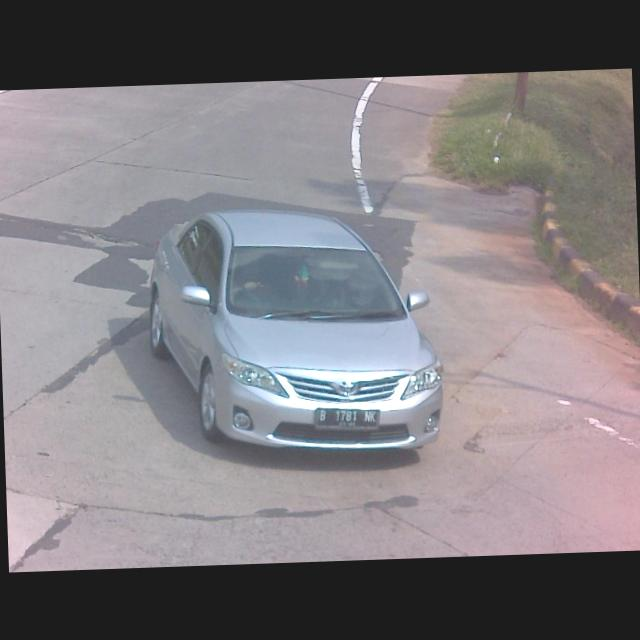plate: (312, 404, 382, 430)
